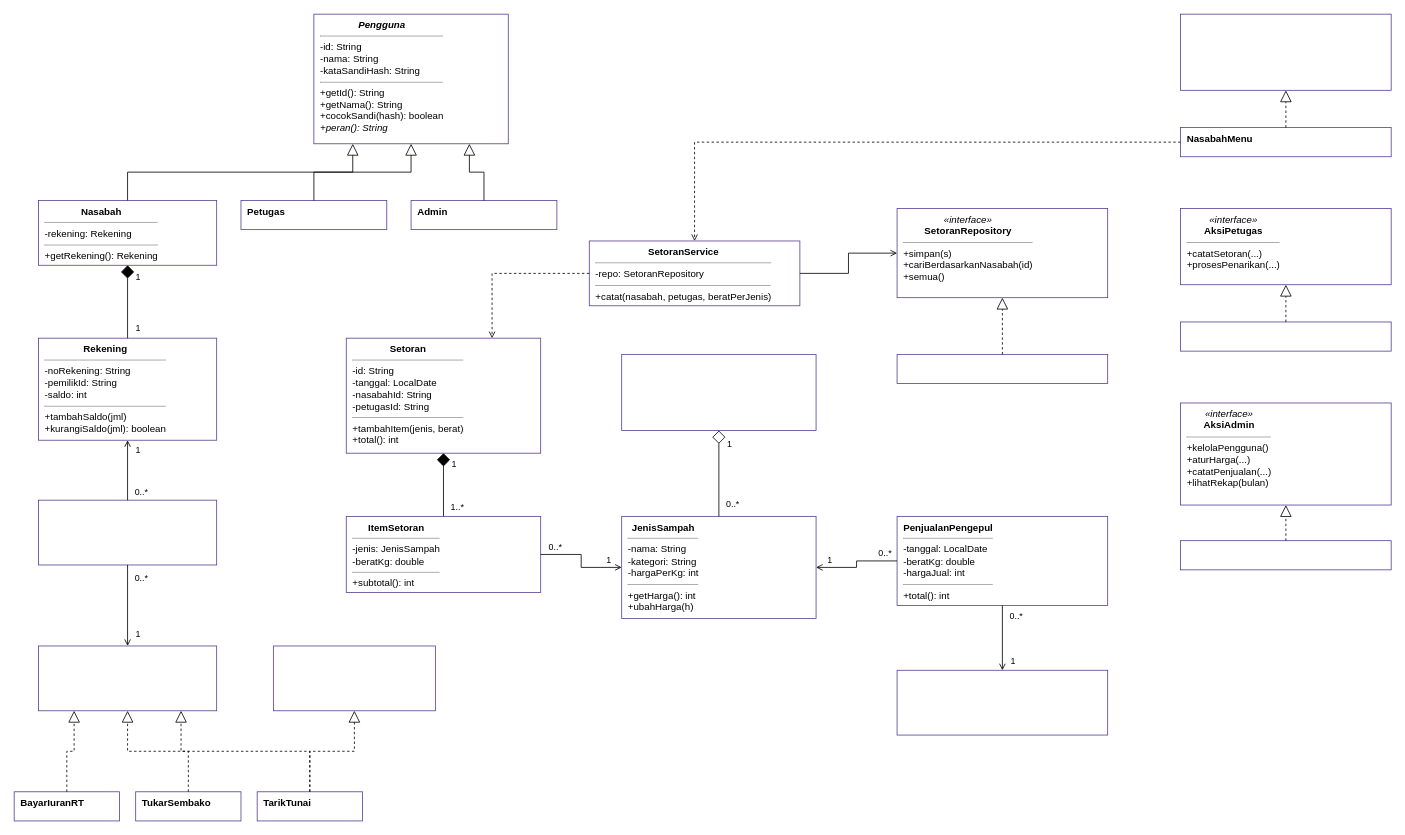
The diagram is 1405 pixels wide and 835 high, and some of its shapes have lost their labels. The shapes that lost their labels are listed below. From the top down, each one's box as (x1, y1, x2, y2) in pixels, then its label:
(1180, 13, 1391, 90): «interface» AksiNasabah +lihatRiwayat() +ajukanPenarikan(jumlah, metode)
(1180, 321, 1391, 351): PetugasMenu
(896, 354, 1108, 384): MemorySetoranRepository
(621, 354, 816, 431): KatalogSampah -daftar: List +tambah(jenis) +cari(nama)
(38, 499, 217, 565): Penarikan -jumlah: int +proses(): boolean
(1180, 540, 1391, 570): AdminMenu
(38, 645, 217, 711): «interface» MetodePenarikan +proses(jumlah): boolean
(273, 645, 435, 711): «interface» BisaDibatalkan +batalkan(jumlah)
(896, 669, 1108, 735): Pengepul -nama: String -kontak: String
